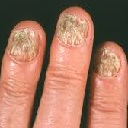Nail Fungal Infection: (10, 29, 44, 64), (58, 17, 89, 50), (93, 52, 123, 81)
